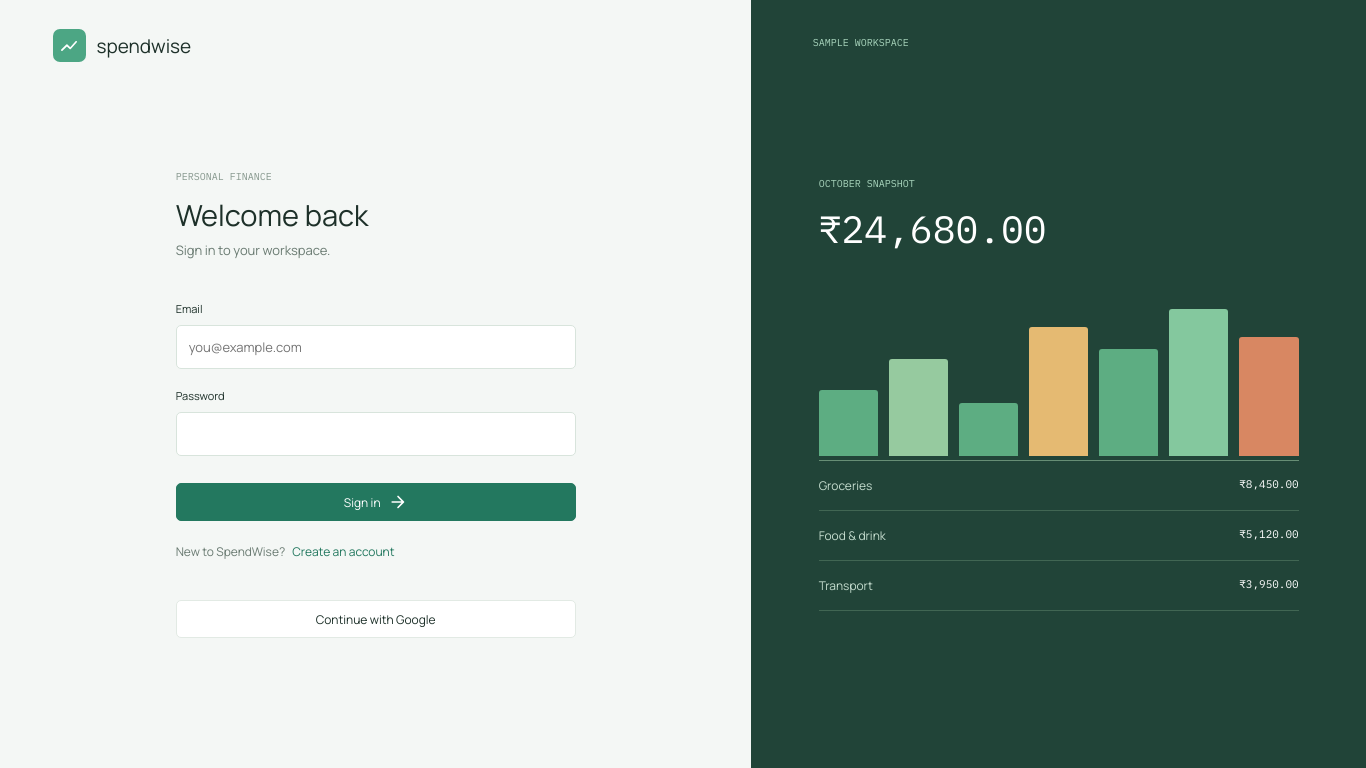
Scenario: authentication › shows actionable guidance when local email delivery is not configured
In the field labelled "Email": (376, 347) [176,325,576,369], type "local@example.com"
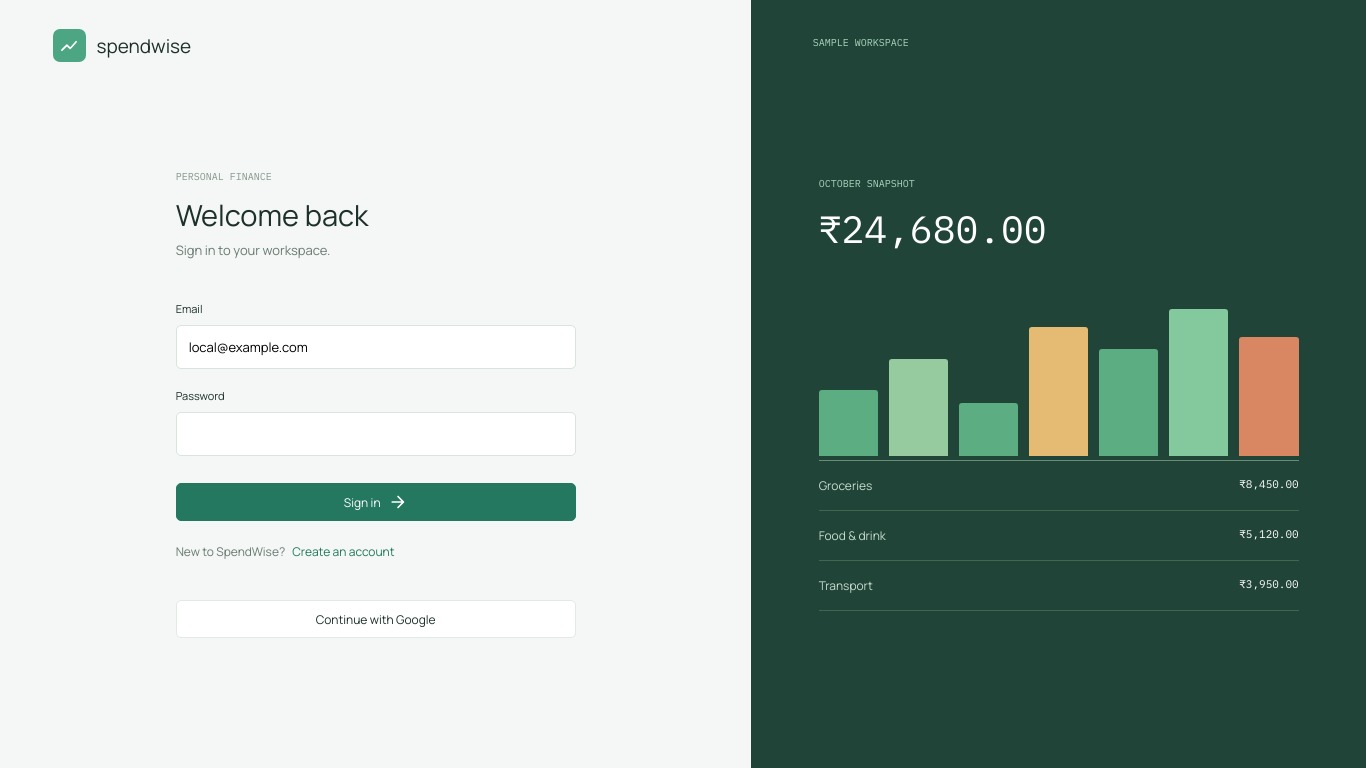
In the password field labelled "Password": (376, 434) [176,412,576,456], type "long-test-password"
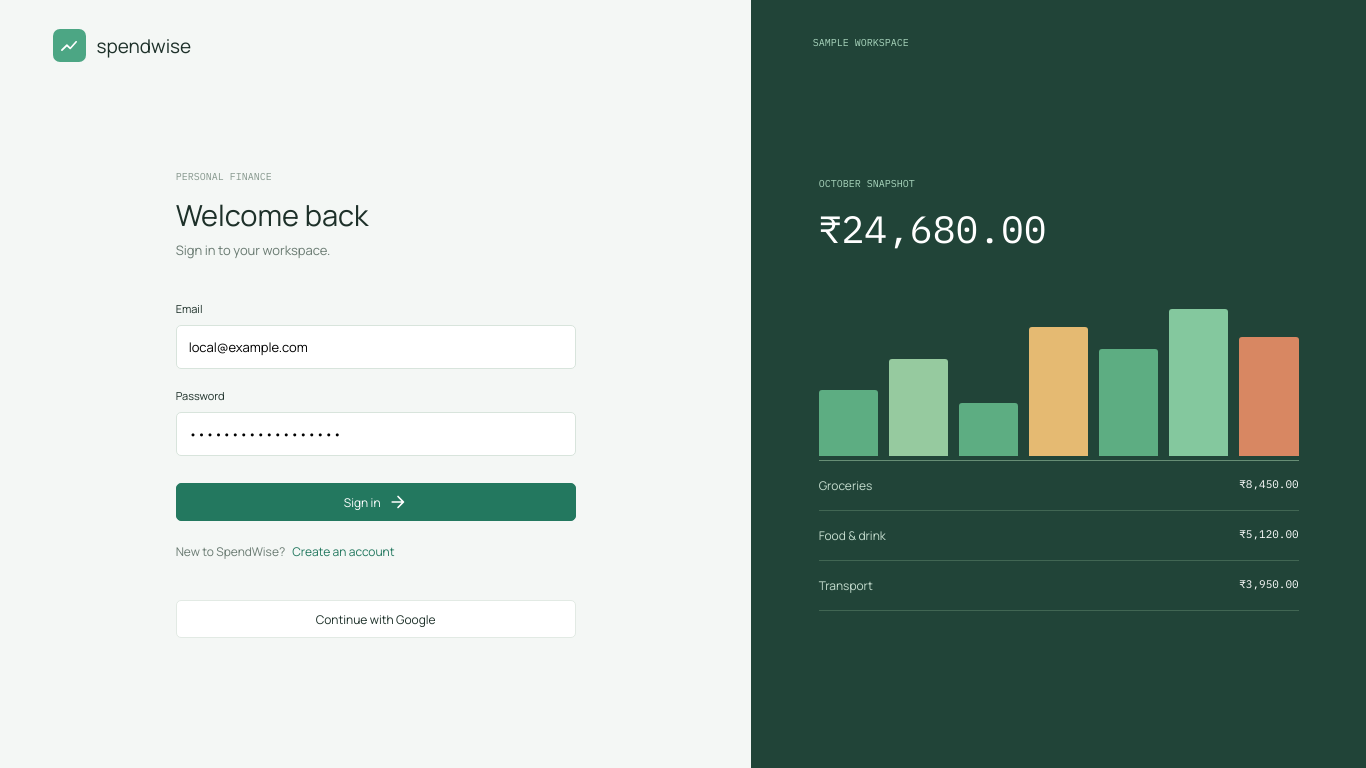
Click the button "Sign in": (376, 502) [176,483,576,521]
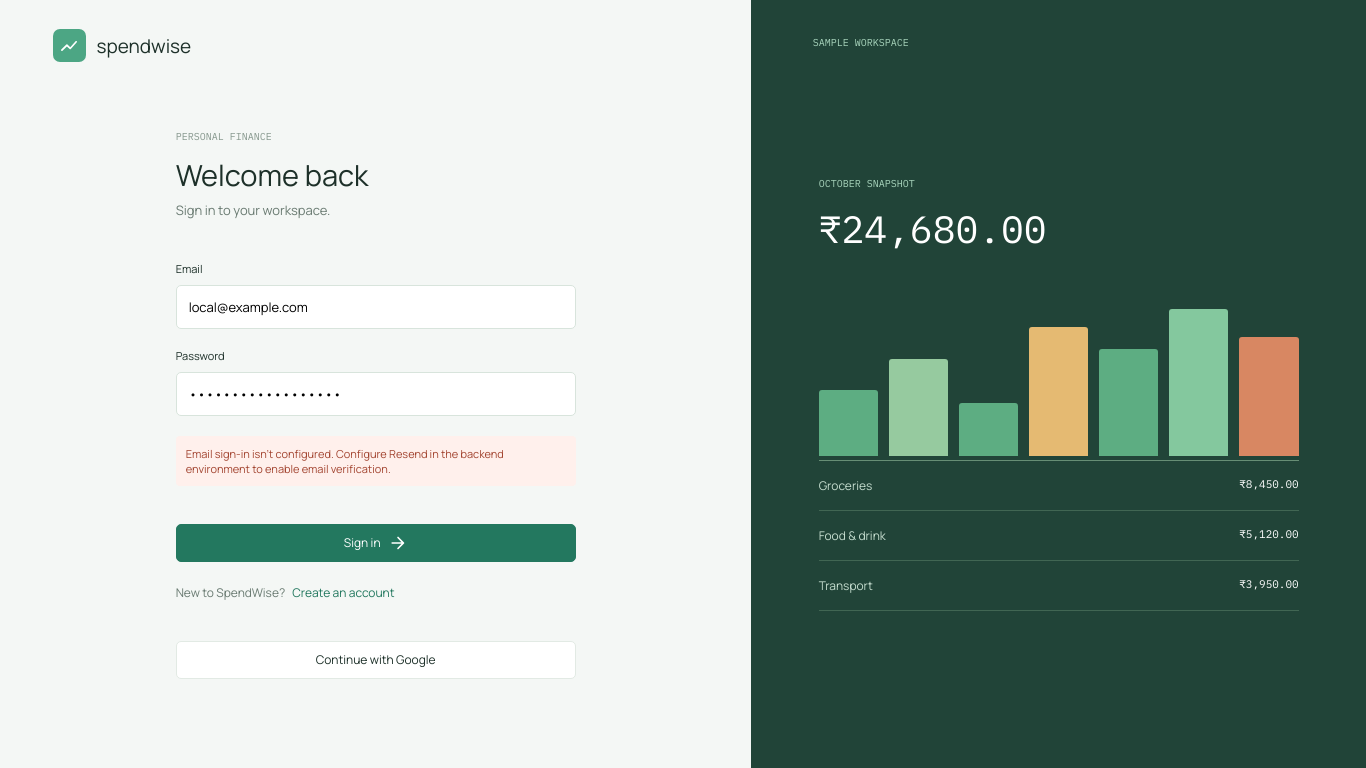
Now the message shows "Configure Resend in the backend environment", box [186,446,504,476]
